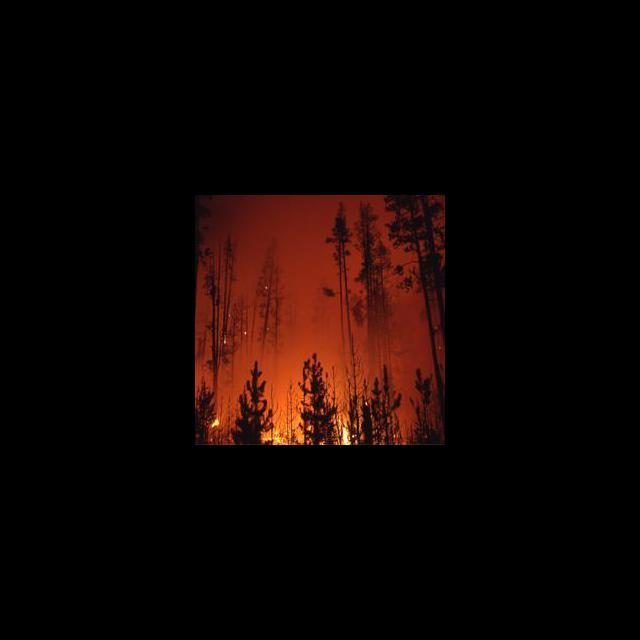Fire: (267, 432, 285, 443), (342, 424, 351, 444), (207, 417, 221, 428)
